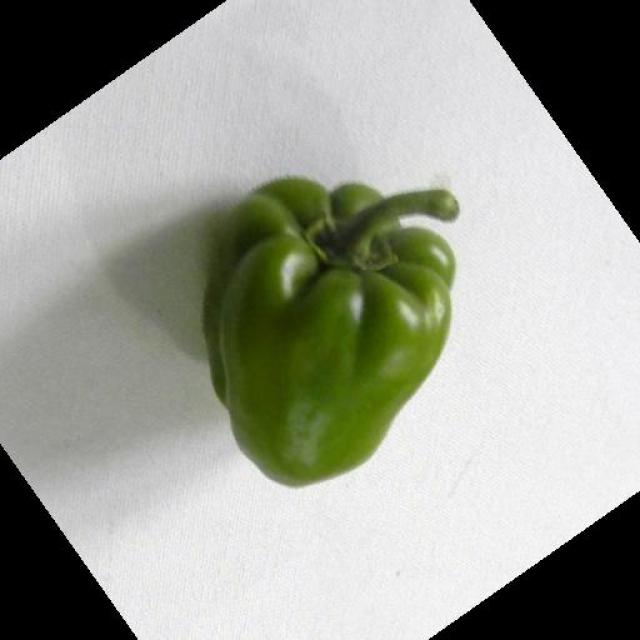Fresh_Capsicum: (179, 157, 467, 506)
